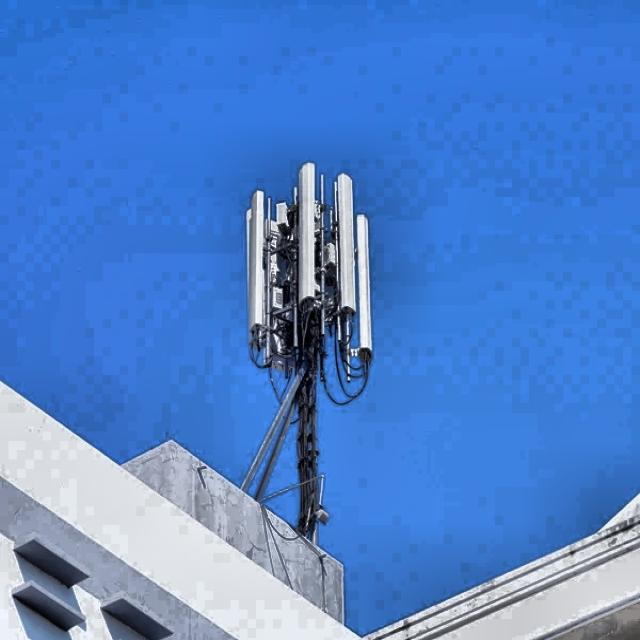antenna: (246, 190, 266, 337), (297, 162, 317, 303), (335, 173, 355, 312), (356, 214, 372, 361), (275, 202, 288, 232)
